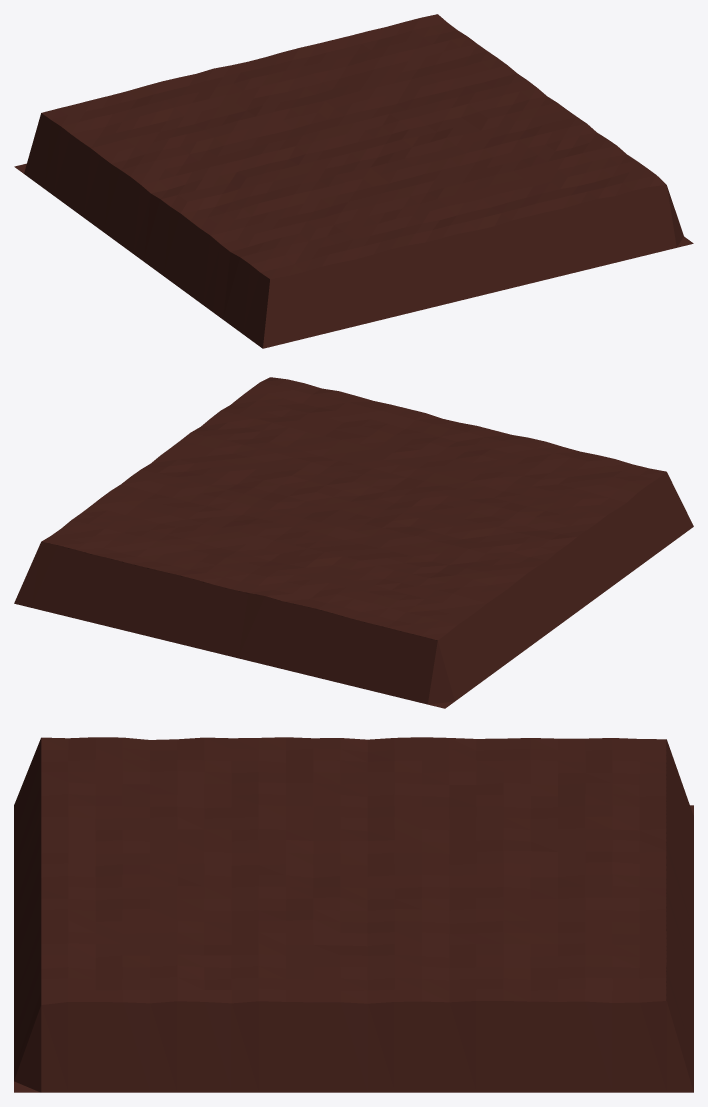
File: Tile4.fbx
The picture shows the model from 3 angles, top to bottom: view 1: azimuth 30°, elevation 25°; view 2: azimuth 150°, elevation 25°; view 3: azimuth 270°, elevation 25°; orthographic projection. The views are drawn at different scales.
Parts seen in each view (by area): view 1: ImageToStl.com_4; view 2: ImageToStl.com_4; view 3: ImageToStl.com_4.
Part boxes in pixels (x1,y1,x2,y2): ImageToStl.com_4: [14, 14, 693, 348]; ImageToStl.com_4: [14, 377, 693, 708]; ImageToStl.com_4: [14, 737, 693, 1092].
Bounding box in the file's own units: 10417 × 1376 × 10417.
1 material, 1 textured.
